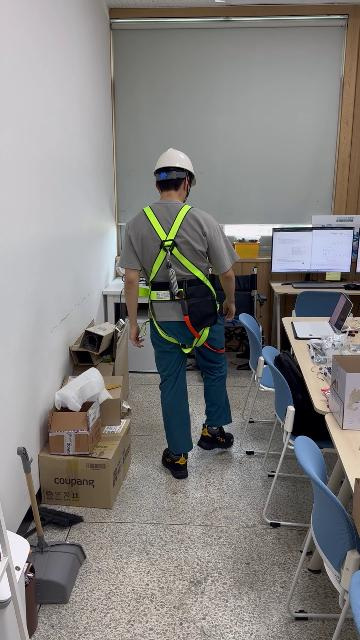helmet_worn: (152, 148, 197, 188)
shoe_worn: (197, 423, 233, 450), (161, 447, 189, 479)
vest_worn: (140, 207, 221, 344)
